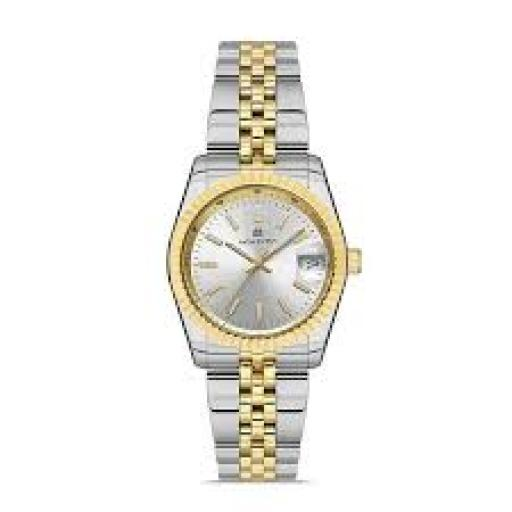KolSaati: (140, 23, 378, 495)
